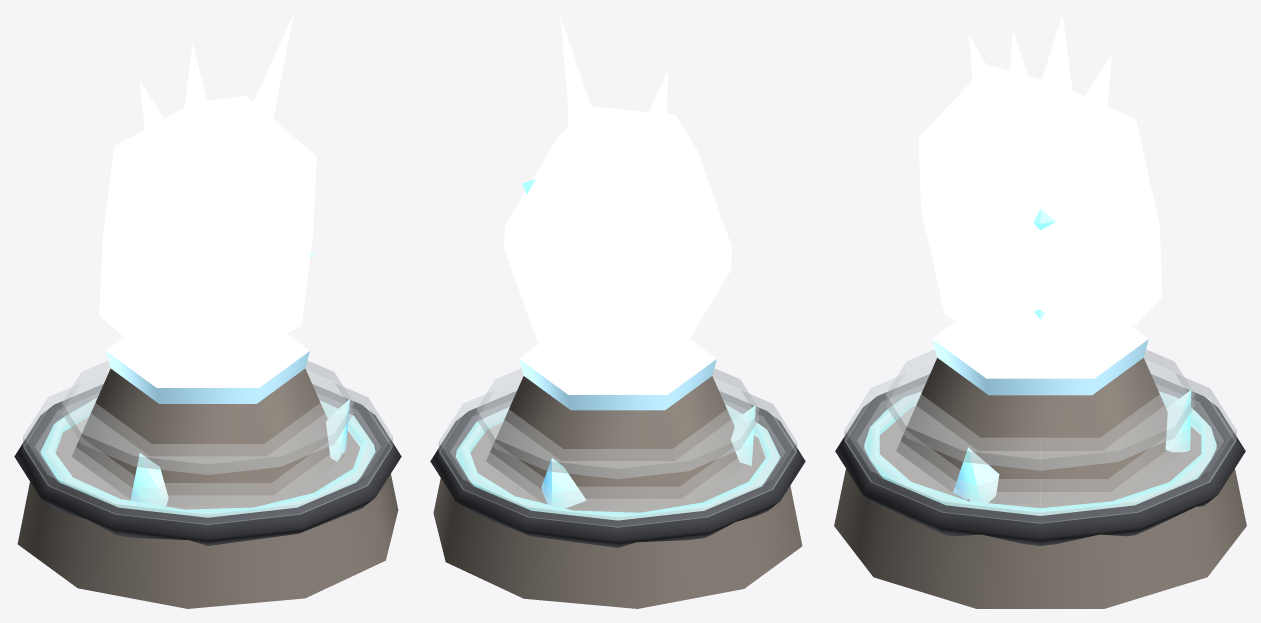
The model's file is tower_freeze_absoluteZero.glb.
The picture shows the model from 3 angles, left to right: view 1: azimuth 30°, elevation 25°; view 2: azimuth 150°, elevation 25°; view 3: azimuth 270°, elevation 25°; orthographic projection. The views are drawn at different scales.
Visible parts, largest first — view 1: glacier, base, pedestal, frost_fog, base_rim, frost_fog_b, pedestal_frost, aura_ring, glacier_spike_0, side_crystal_1, glacier_spike_2, side_crystal_0 (+2 smaller); view 2: glacier, base, pedestal, frost_fog, base_rim, frost_fog_b, pedestal_frost, aura_ring, side_crystal_2, glacier_spike_0, glacier_spike_2, side_crystal_1 (+1 smaller); view 3: glacier, base, pedestal, frost_fog, base_rim, frost_fog_b, pedestal_frost, aura_ring, glacier_spike_0, side_crystal_0, glacier_spike_2, side_crystal_2 (+2 smaller).
Part boxes in pixels (left/top/right/bottom): glacier: left=99, top=96, right=316, bottom=372; base: left=17, top=417, right=398, bottom=608; pedestal: left=72, top=368, right=343, bottom=506; frost_fog: left=23, top=372, right=392, bottom=524; base_rim: left=14, top=384, right=401, bottom=545; frost_fog_b: left=62, top=361, right=353, bottom=474; pedestal_frost: left=106, top=334, right=309, bottom=403; aura_ring: left=40, top=398, right=375, bottom=517; glacier_spike_0: left=251, top=15, right=293, bottom=128; side_crystal_1: left=130, top=453, right=168, bottom=505; glacier_spike_2: left=139, top=80, right=172, bottom=147; side_crystal_0: left=326, top=399, right=349, bottom=461; glacier: left=503, top=106, right=732, bottom=378; base: left=433, top=423, right=802, bottom=608; pedestal: left=486, top=376, right=745, bottom=509; frost_fog: left=438, top=379, right=797, bottom=527; base_rim: left=430, top=391, right=805, bottom=547; frost_fog_b: left=476, top=368, right=759, bottom=478; pedestal_frost: left=519, top=339, right=716, bottom=410; aura_ring: left=455, top=405, right=779, bottom=520; side_crystal_2: left=541, top=458, right=586, bottom=508; glacier_spike_0: left=560, top=15, right=590, bottom=124; glacier_spike_2: left=637, top=111, right=664, bottom=176; side_crystal_1: left=731, top=405, right=755, bottom=465; glacier: left=918, top=65, right=1162, bottom=364; base: left=834, top=407, right=1246, bottom=608; pedestal: left=896, top=358, right=1182, bottom=503; frost_fog: left=844, top=361, right=1236, bottom=523; base_rim: left=835, top=374, right=1245, bottom=545; frost_fog_b: left=885, top=349, right=1195, bottom=470; pedestal_frost: left=932, top=321, right=1148, bottom=395; aura_ring: left=864, top=391, right=1216, bottom=515; glacier_spike_0: left=1006, top=29, right=1040, bottom=137; side_crystal_0: left=953, top=447, right=999, bottom=502; glacier_spike_2: left=1040, top=14, right=1073, bottom=96; side_crystal_2: left=1165, top=390, right=1191, bottom=452.
Size of the model in its own units: 0.398 by 0.5724 by 0.4.
